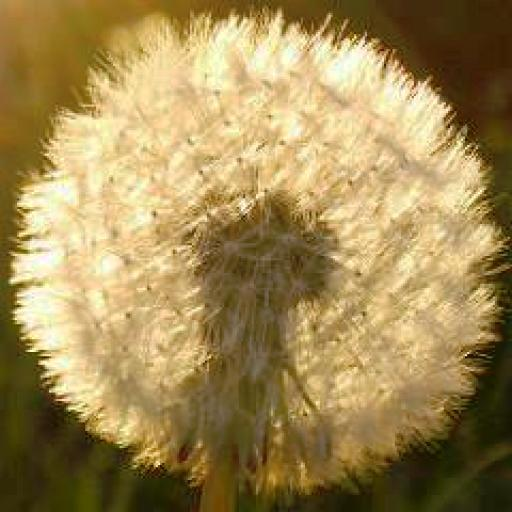dandelion: (19, 2, 512, 499)
